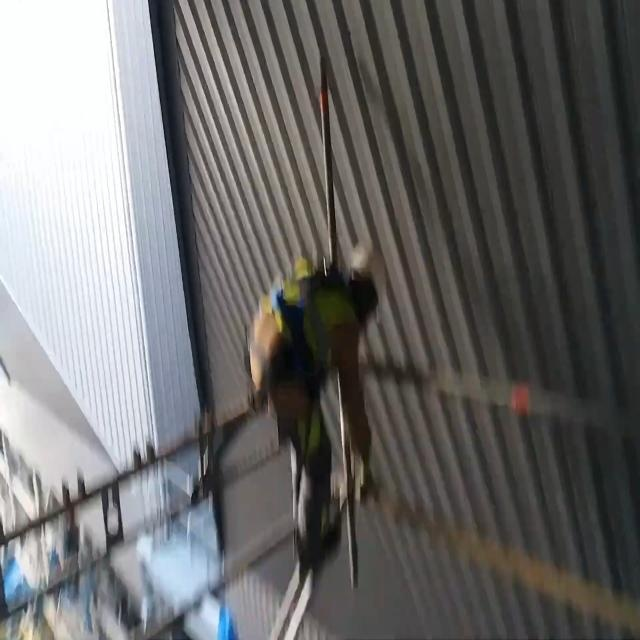Arnes_seguridad: (266, 235, 347, 410)
